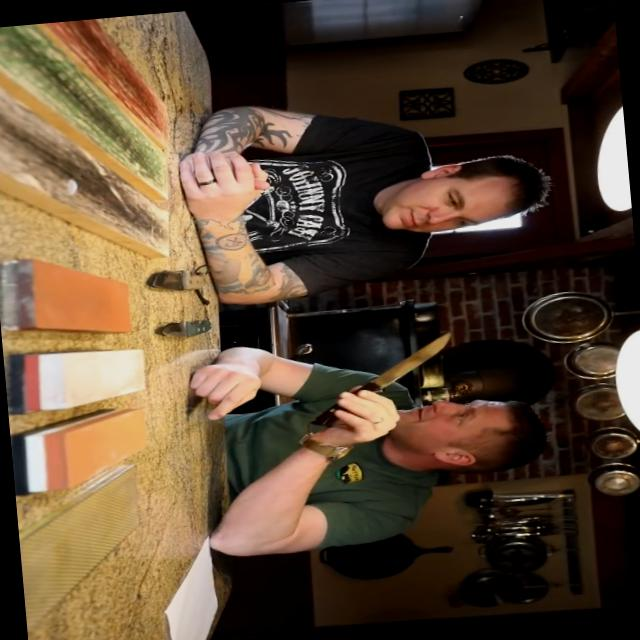knife: (331, 326, 478, 426)
